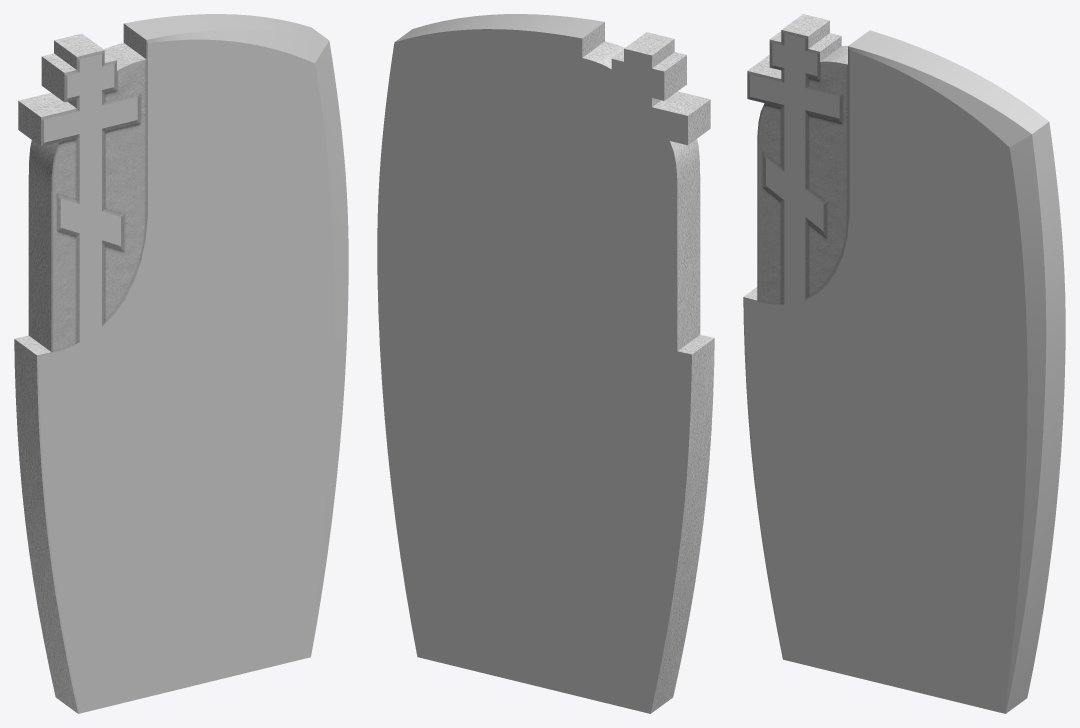
File: cnaa0bacab8b_tkf.glb
3 renders of one model, left to right at view 1: azimuth 30°, elevation 25°; view 2: azimuth 150°, elevation 25°; view 3: azimuth 330°, elevation 25°, orthographic. The views are drawn at different scales.
Visible parts, largest first — view 1: Pam-d03-179, Pam-d03-179_2_notexture; view 2: Pam-d03-179, Pam-d03-179_2_notexture; view 3: Pam-d03-179, Pam-d03-179_2_notexture.
Boxes of the visible parts, x1=… form: Pam-d03-179: x1=38, y1=14, x2=348, y2=713; Pam-d03-179_2_notexture: x1=14, y1=24, x2=147, y2=713; Pam-d03-179: x1=377, y1=14, x2=691, y2=713; Pam-d03-179_2_notexture: x1=582, y1=22, x2=714, y2=713; Pam-d03-179: x1=744, y1=30, x2=1065, y2=713; Pam-d03-179_2_notexture: x1=743, y1=14, x2=849, y2=659.
Size of the model in its own units: 0.4 by 0.8 by 0.05.
1 material, 1 textured.
